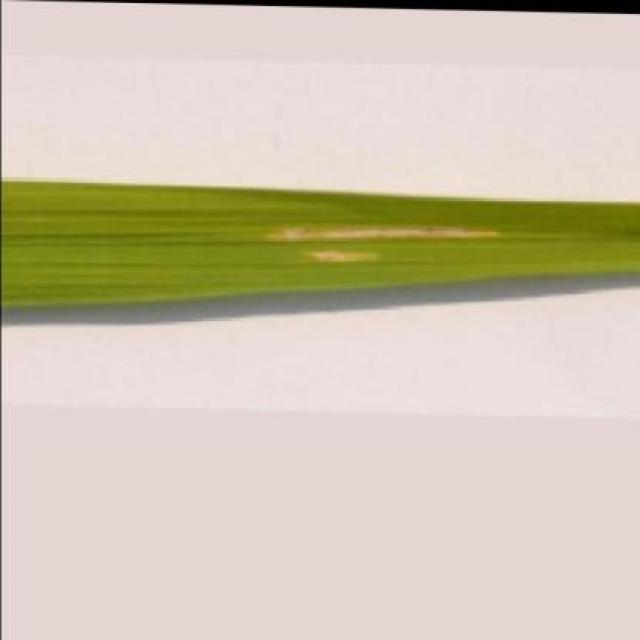Brown_Spot: (0, 173, 640, 324)
